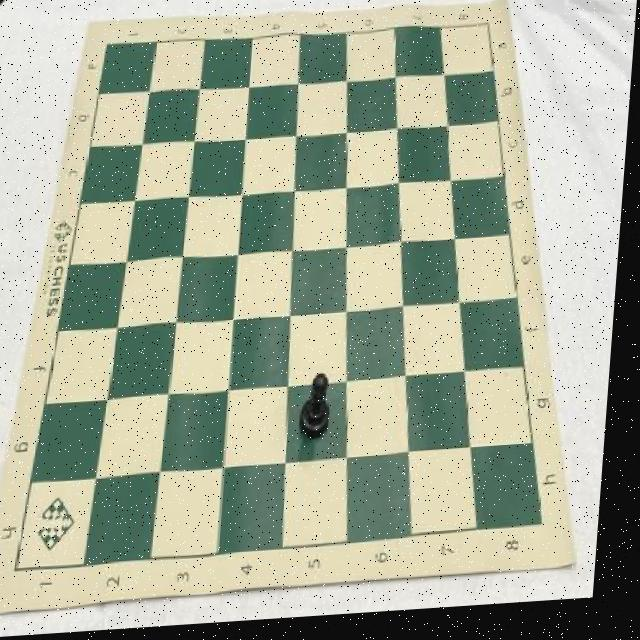black-knight: (305, 376, 342, 444)
